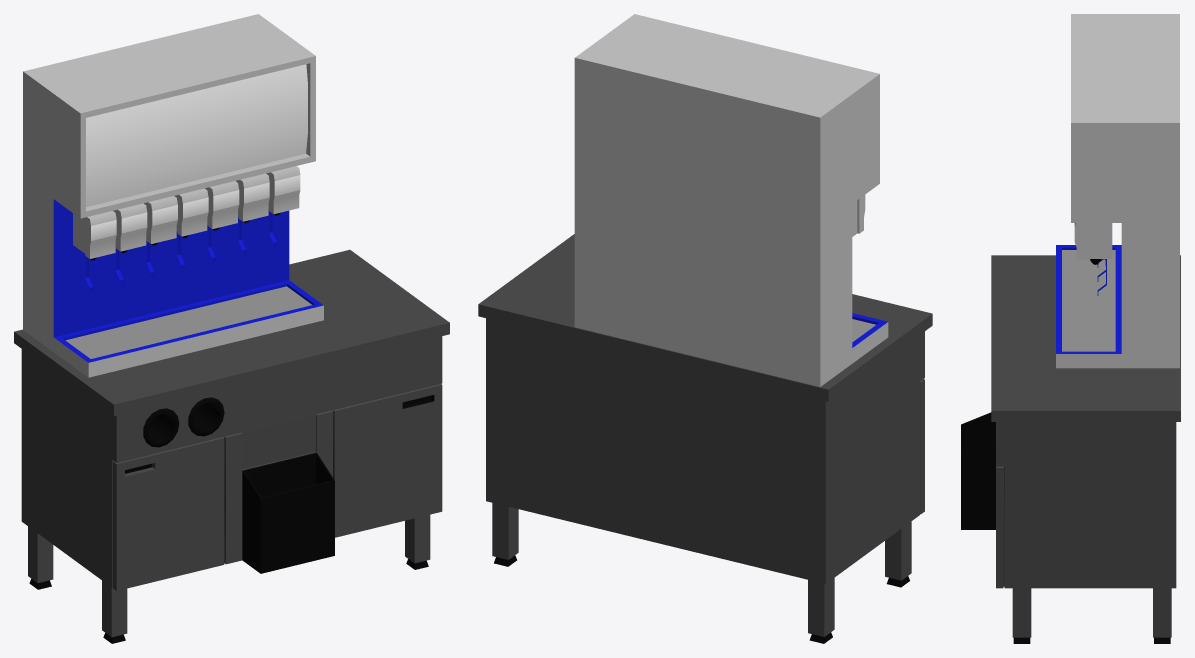
Rendered from kitchen_drink_dispenser.FBX.
3 renders of one model, left to right at view 1: azimuth 30°, elevation 25°; view 2: azimuth 150°, elevation 25°; view 3: azimuth 270°, elevation 25°, orthographic. The views are drawn at different scales.
Parts seen in each view (by area): view 1: drink_up, kitchen_drink_dispenser, doorG, doorD; view 2: kitchen_drink_dispenser, drink_up, doorG; view 3: kitchen_drink_dispenser, drink_up, doorD.
Part boxes in pixels (<box>): drink_up: <box>23,14,323,377</box>; kitchen_drink_dispenser: <box>14,249,449,643</box>; doorG: <box>113,437,224,590</box>; doorD: <box>333,384,442,537</box>; kitchen_drink_dispenser: <box>478,234,932,643</box>; drink_up: <box>574,14,888,386</box>; doorG: <box>920,379,924,514</box>; kitchen_drink_dispenser: <box>961,255,1180,643</box>; drink_up: <box>1056,14,1179,368</box>; doorD: <box>996,466,1003,588</box>.
Size of the model in its own units: 129 by 187 by 77.24.
